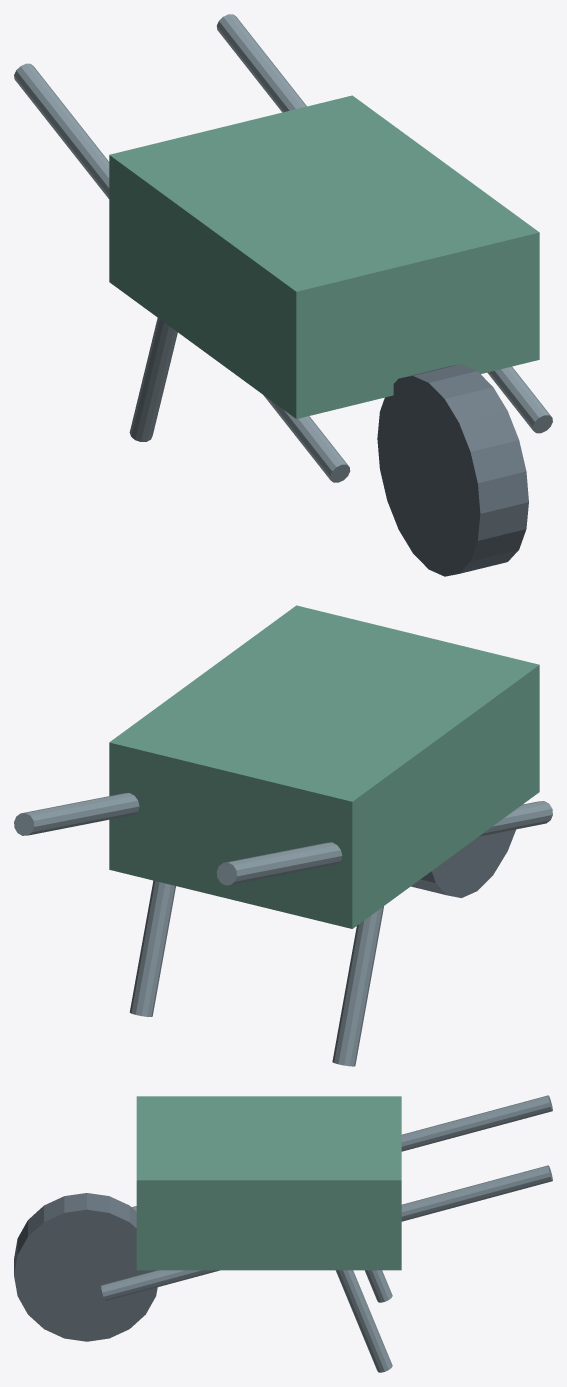
File: wheelbarrow.glb
3 views of the same model, one above another, from view 1: azimuth 30°, elevation 25°; view 2: azimuth 150°, elevation 25°; view 3: azimuth 270°, elevation 25° (orthographic). The views are drawn at different scales.
Visible parts, largest first — view 1: wheelbarrow_000, wheelbarrow_001, wheelbarrow_002, wheelbarrow_004, wheelbarrow_003; view 2: wheelbarrow_000, wheelbarrow_002, wheelbarrow_003, wheelbarrow_001, wheelbarrow_005, wheelbarrow_004; view 3: wheelbarrow_000, wheelbarrow_001, wheelbarrow_004, wheelbarrow_002, wheelbarrow_005, wheelbarrow_003.
Boxes of the visible parts, box(x1,y1,x2,y2) form: wheelbarrow_000: box(109, 95, 539, 418); wheelbarrow_001: box(377, 364, 528, 576); wheelbarrow_002: box(14, 63, 350, 482); wheelbarrow_004: box(216, 14, 552, 433); wheelbarrow_003: box(129, 318, 177, 441); wheelbarrow_000: box(109, 605, 539, 928); wheelbarrow_002: box(216, 801, 552, 885); wheelbarrow_003: box(332, 906, 383, 1066); wheelbarrow_001: box(411, 829, 516, 897); wheelbarrow_005: box(129, 880, 175, 1016); wheelbarrow_004: box(14, 793, 139, 835); wheelbarrow_000: box(136, 1096, 401, 1270); wheelbarrow_001: box(14, 1193, 157, 1341); wheelbarrow_004: box(101, 1165, 552, 1301); wheelbarrow_002: box(132, 1095, 552, 1211); wheelbarrow_005: box(335, 1270, 392, 1372); wheelbarrow_003: box(364, 1270, 392, 1302).
Size of the model in its own units: 0.6 by 0.6827 by 1.63.
